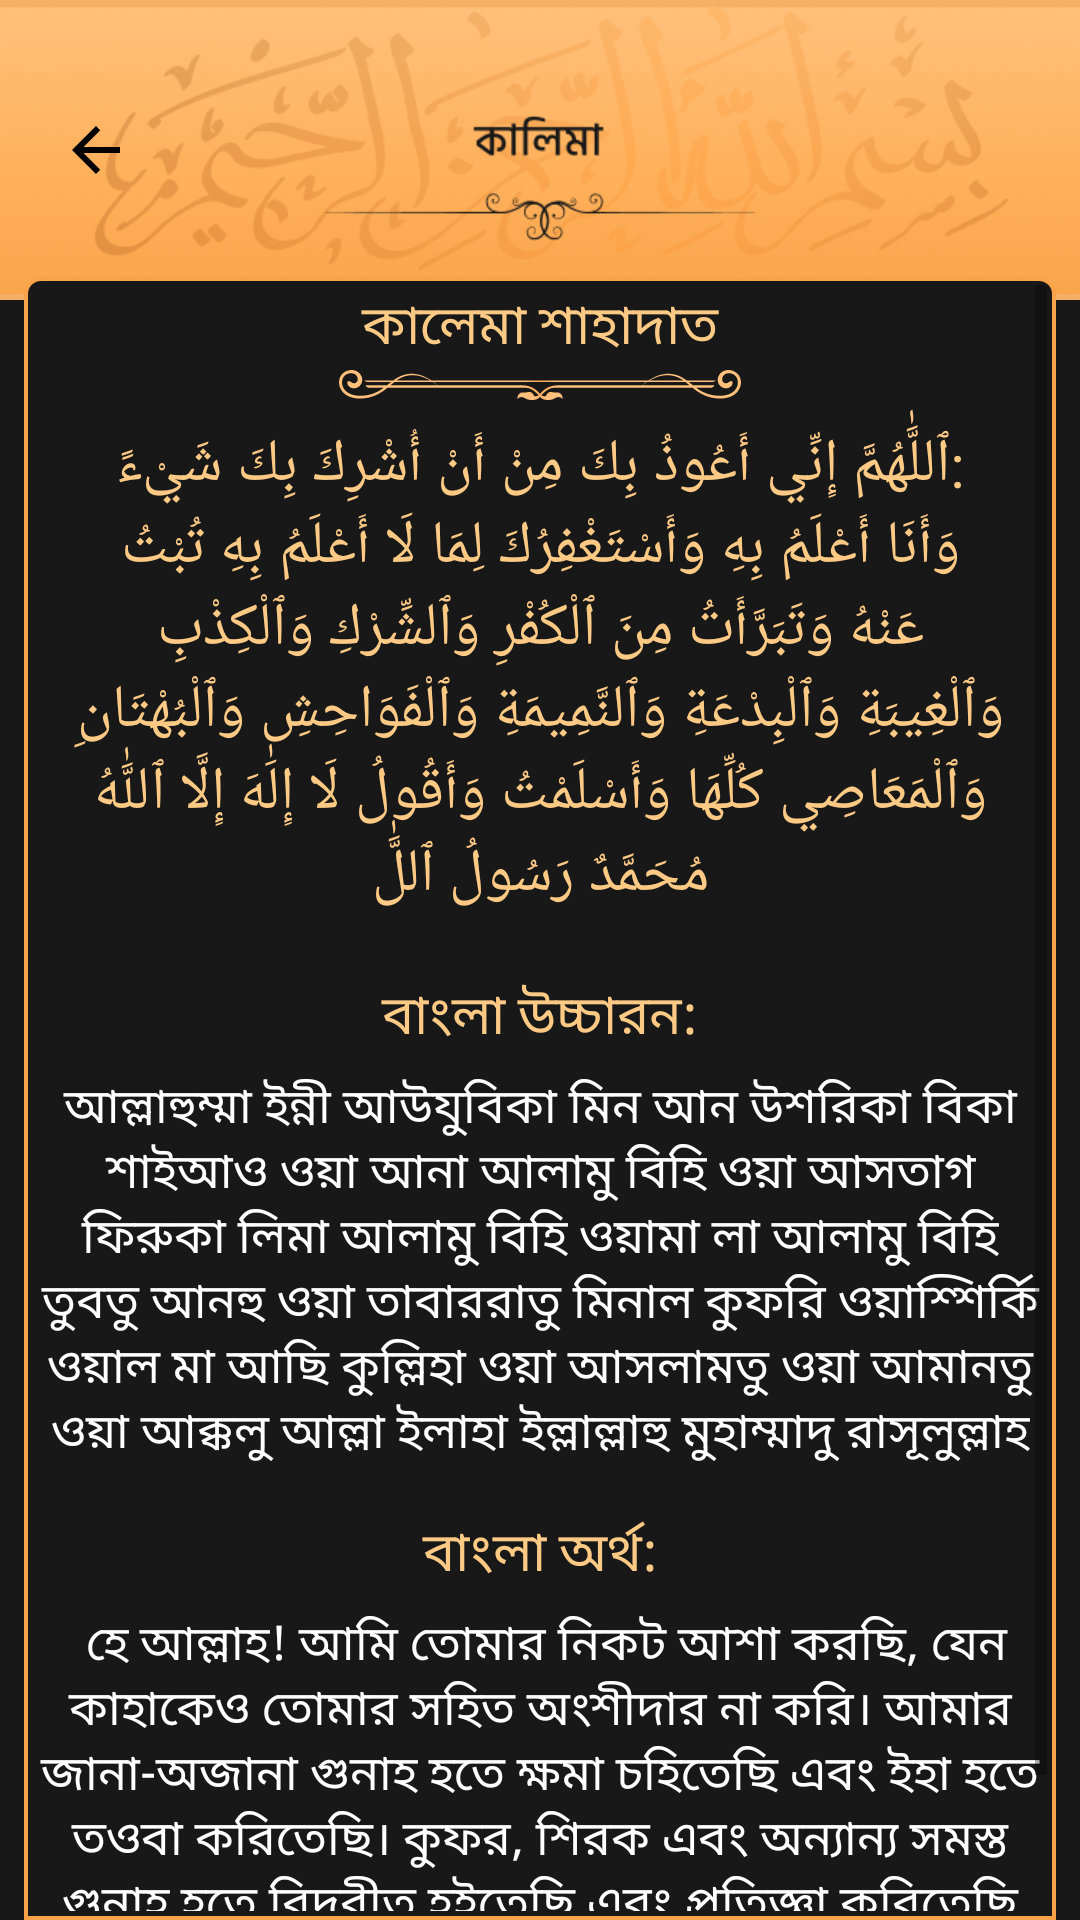

Screen size 1080 x 1920. Icon name, then its box in pixels as (x1, y1, x2, y2):
back: (72, 115, 132, 186)
